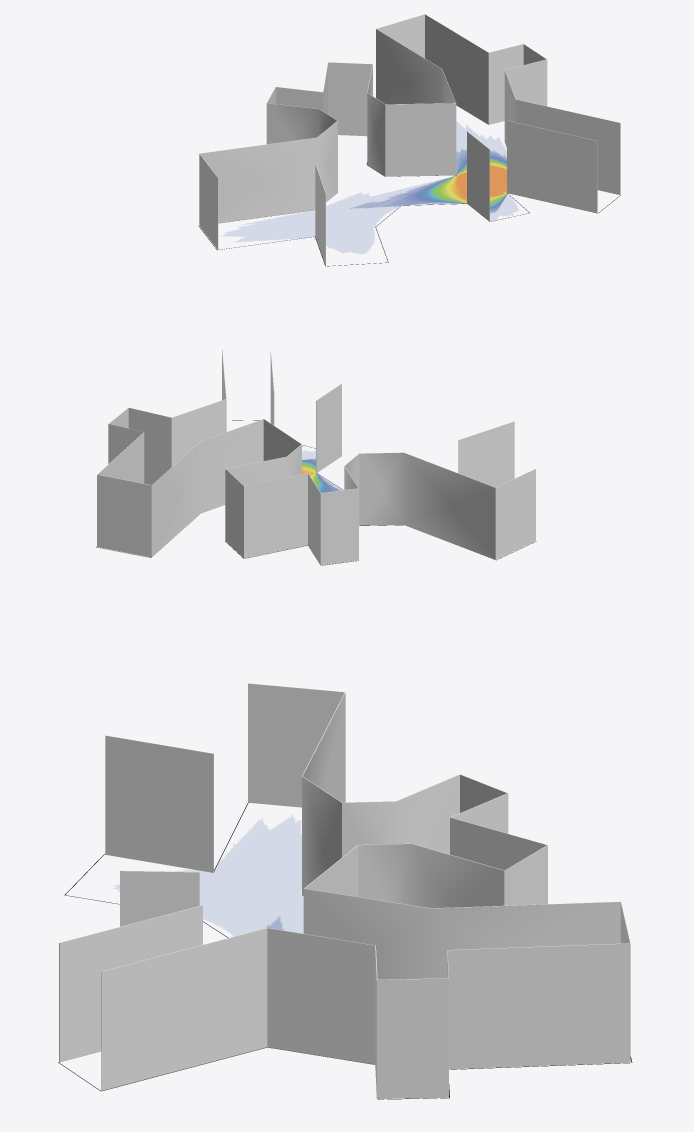
File: House-O4.glb
The picture shows the model from 3 angles, top to bottom: view 1: azimuth 30°, elevation 25°; view 2: azimuth 150°, elevation 25°; view 3: azimuth 270°, elevation 25°; orthographic projection. The views are drawn at different scales.
Visible parts, largest first — view 1: Mesh_3, House-O2, Mesh_2, Mesh_0, Mesh_1; view 2: Mesh_3, Mesh_1, Mesh_0, House-O2; view 3: Mesh_3, Mesh_1, Mesh_2, House-O2, Mesh_0, Curve.001.
Boxes of the visible parts, left/top/right/bottom form: Mesh_3: left=199, top=14, right=620, bottom=249; House-O2: left=224, top=123, right=517, bottom=253; Mesh_2: left=507, top=120, right=597, bottom=213; Mesh_0: left=467, top=131, right=489, bottom=221; Mesh_1: left=315, top=164, right=325, bottom=265; Mesh_3: left=97, top=349, right=535, bottom=565; Mesh_1: left=458, top=421, right=514, bottom=487; Mesh_0: left=316, top=383, right=341, bottom=472; House-O2: left=302, top=451, right=341, bottom=492; Mesh_3: left=101, top=683, right=630, bottom=1098; Mesh_1: left=105, top=735, right=213, bottom=872; Mesh_2: left=59, top=905, right=202, bottom=1062; House-O2: left=116, top=817, right=302, bottom=935; Mesh_0: left=120, top=870, right=199, bottom=926; Curve.001: left=58, top=802, right=632, bottom=1099.
Size of the model in its own units: 0.3468 by 0.0516 by 0.261.
6 materials, 1 textured.
